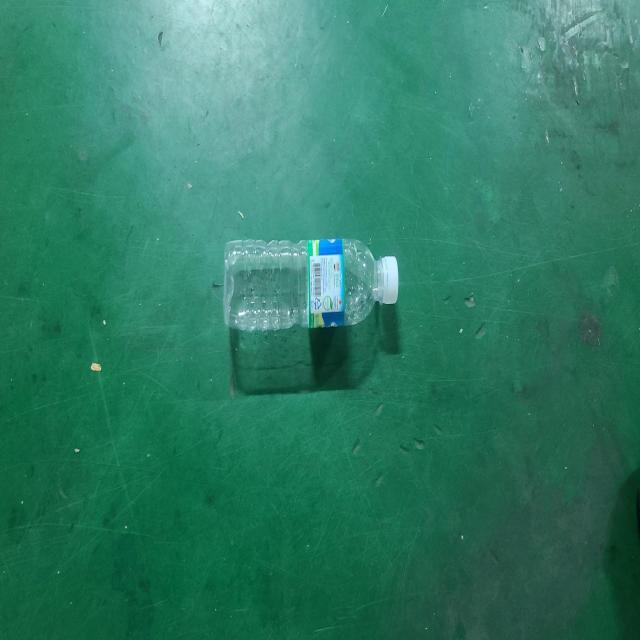plastic: (223, 238, 399, 330)
